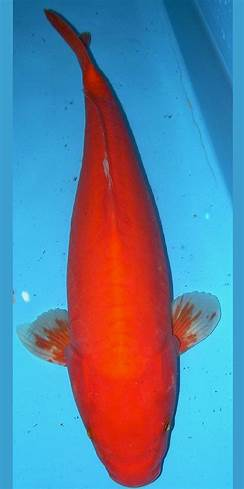red: (16, 6, 224, 487)
